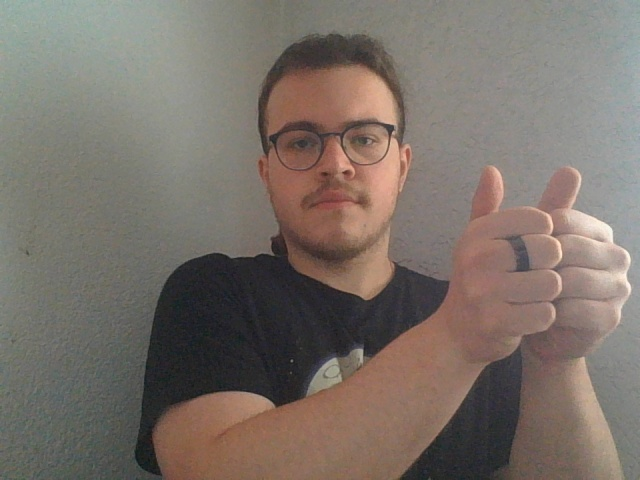Agree: (441, 164, 633, 364)
